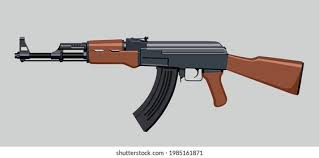gun: (14, 34, 306, 133)
